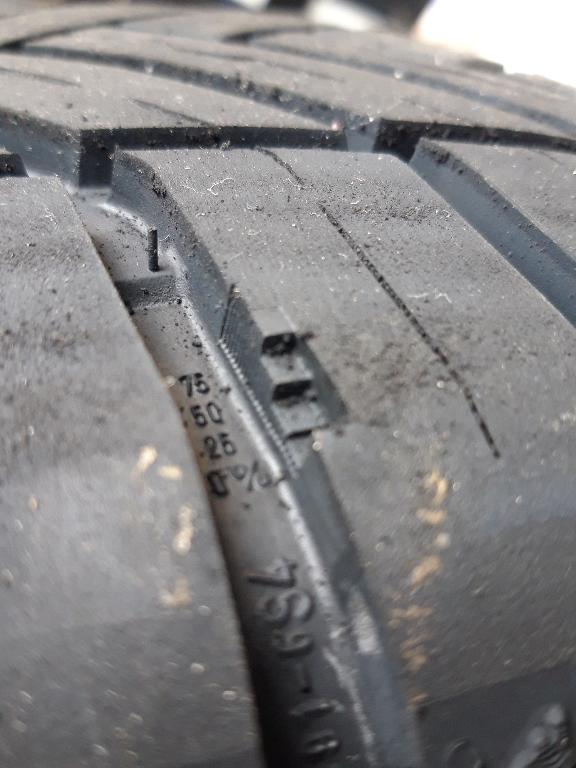temoin:75: (232, 301, 367, 487)
